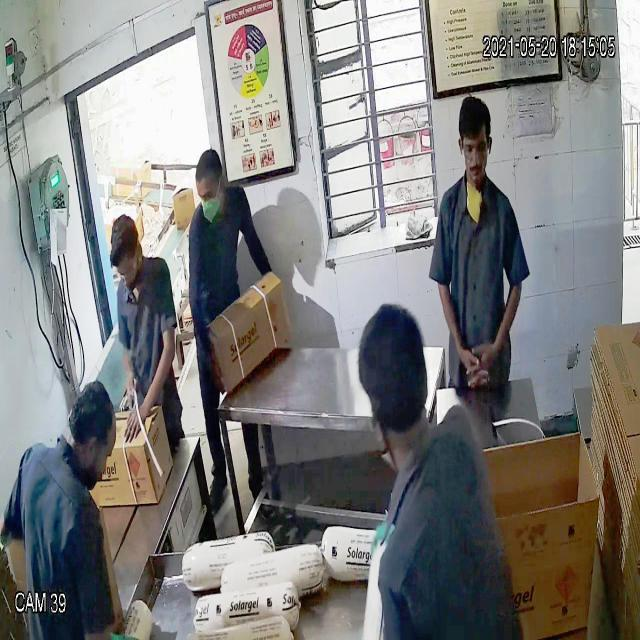glasses: (456, 134, 496, 164), (113, 253, 139, 283)
no-glass: (195, 190, 219, 209)
